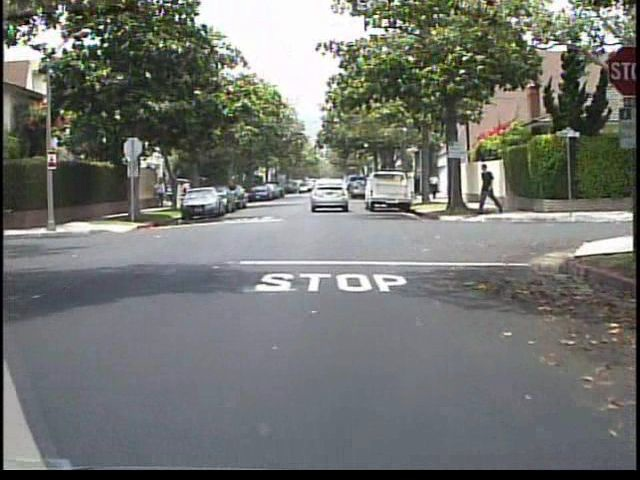person: (477, 160, 504, 218), (426, 168, 442, 202), (154, 178, 172, 208), (179, 176, 195, 207)
